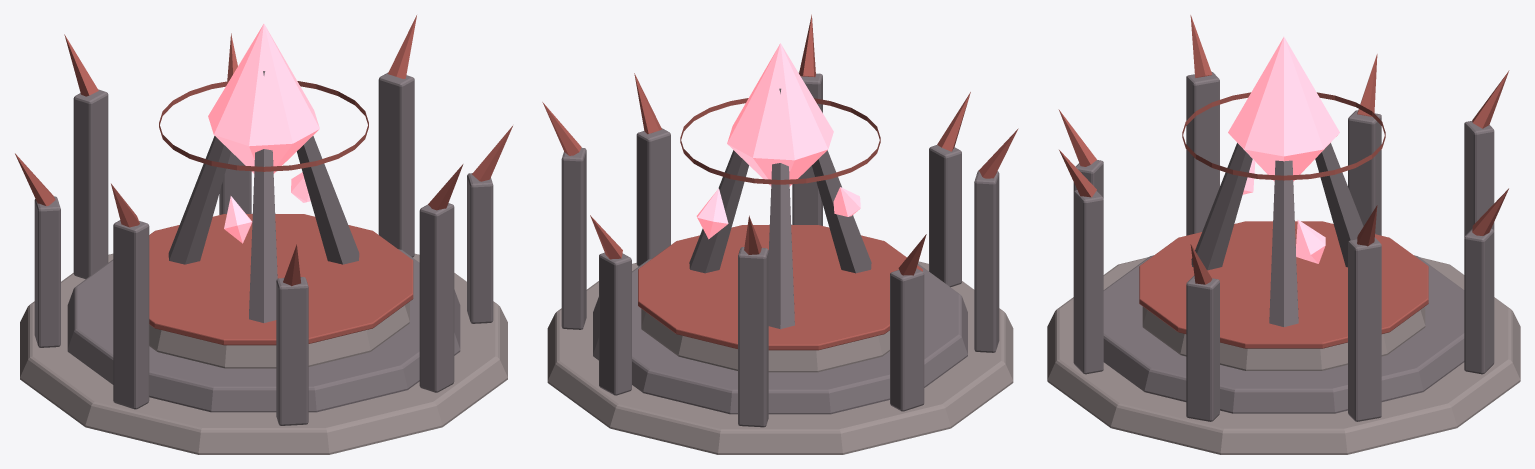
Rendered from ancient_dusk.glb.
3 views of the same model, side by side, from view 1: azimuth 30°, elevation 25°; view 2: azimuth 150°, elevation 25°; view 3: azimuth 270°, elevation 25° (orthographic). The views are drawn at different scales.
Parts seen in each view (by area): view 1: tier1, trimring, tier2, heart, mono4, mono6, mono2, mono0, tier3, mono5, arm2, mono7 (+12 smaller); view 2: tier1, trimring, tier2, heart, mono2, tier3, mono3, mono0, mono4, mono1, mono5, mono7 (+13 smaller); view 3: tier1, trimring, tier2, heart, mono0, mono6, tier3, mono7, mono4, mono1, arm0, mono3 (+12 smaller).
Part boxes in pixels (left/top/right/bottom): tier1: left=20, top=253, right=507, bottom=454; trimring: left=149, top=214, right=413, bottom=345; tier2: left=67, top=249, right=460, bottom=412; heart: left=208, top=24, right=319, bottom=173; mono4: left=113, top=220, right=149, bottom=409; mono6: left=419, top=203, right=454, bottom=392; mono2: left=73, top=89, right=108, bottom=279; mono0: left=378, top=72, right=414, bottom=257; tier3: left=149, top=301, right=409, bottom=368; mono5: left=276, top=277, right=308, bottom=425; arm2: left=249, top=71, right=277, bottom=322; mono7: left=467, top=173, right=493, bottom=323; tier1: left=547, top=261, right=1013, bottom=454; trimring: left=638, top=225, right=922, bottom=350; tier2: left=593, top=258, right=967, bottom=414; heart: left=727, top=43, right=833, bottom=186; mono2: left=738, top=247, right=768, bottom=427; tier3: left=641, top=309, right=889, bottom=372; mono3: left=890, top=268, right=924, bottom=411; mono0: left=561, top=147, right=586, bottom=329; mono4: left=974, top=170, right=999, bottom=352; mono1: left=599, top=252, right=631, bottom=395; mono5: left=929, top=145, right=961, bottom=287; mono7: left=636, top=128, right=670, bottom=266; tier1: left=1047, top=257, right=1520, bottom=454; trimring: left=1139, top=221, right=1428, bottom=348; tier2: left=1103, top=255, right=1464, bottom=413; heart: left=1228, top=37, right=1339, bottom=181; mono0: left=1348, top=237, right=1381, bottom=421; mono6: left=1073, top=190, right=1103, bottom=374; tier3: left=1142, top=306, right=1425, bottom=370; mono7: left=1186, top=276, right=1219, bottom=421; mono4: left=1186, top=71, right=1219, bottom=235; mono1: left=1464, top=229, right=1494, bottom=374; arm0: left=1269, top=160, right=1298, bottom=326; mono3: left=1348, top=110, right=1381, bottom=235.
Size of the model in its own units: 8.84 by 6.58 by 8.84.
